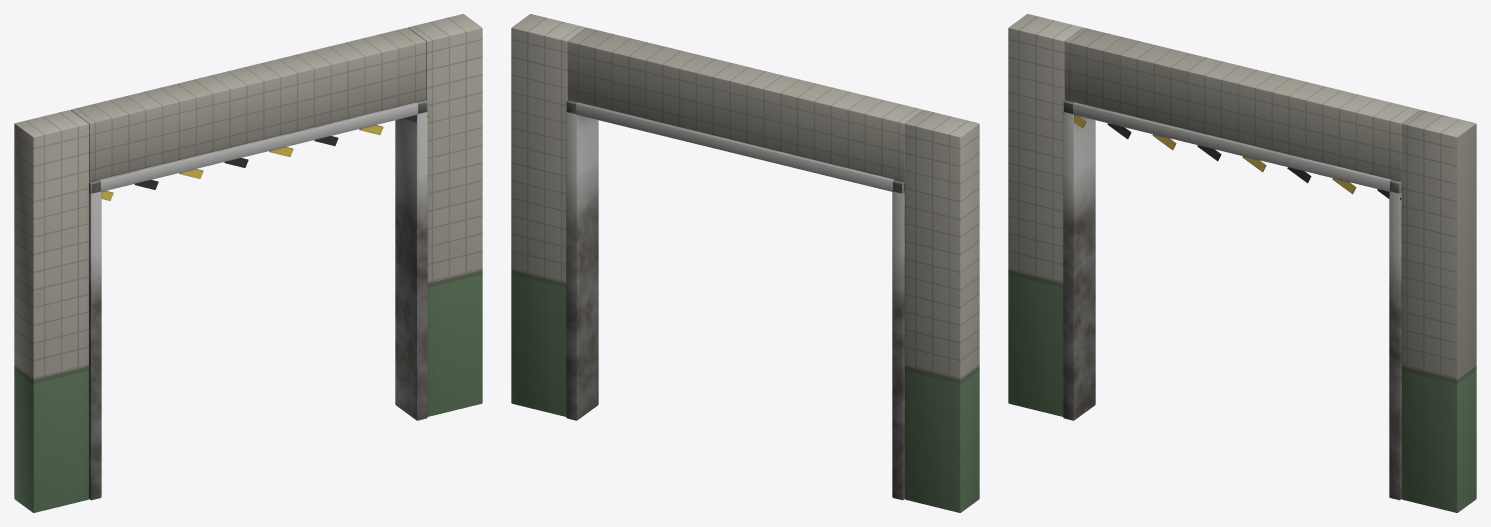
The model's file is g67_pz_arch.glb.
The picture shows the model from 3 angles, left to right: view 1: azimuth 30°, elevation 25°; view 2: azimuth 150°, elevation 25°; view 3: azimuth 330°, elevation 25°; orthographic projection.
Visible parts, largest first — view 1: g67_pz_arch; view 2: g67_pz_arch; view 3: g67_pz_arch.
Boxes of the visible parts, x1,y1,x2,y2 form: g67_pz_arch: (14, 14, 482, 512); g67_pz_arch: (511, 14, 979, 512); g67_pz_arch: (1008, 14, 1476, 512).
Size of the model in its own units: 4 by 3.2 by 0.34.
Materials: 1 (1 with a texture image).
